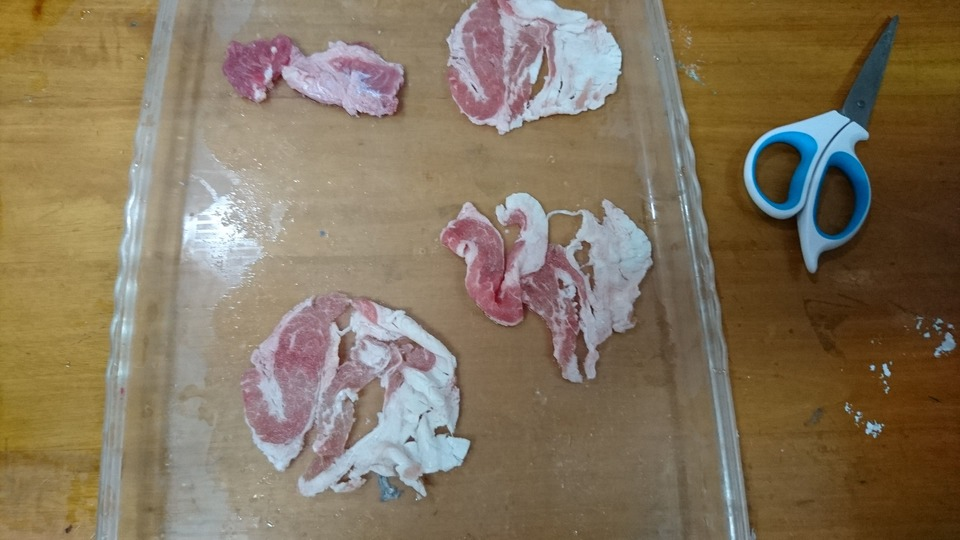restructured meat: (242, 292, 474, 500), (439, 184, 671, 392), (208, 16, 407, 145), (428, 1, 627, 129)
